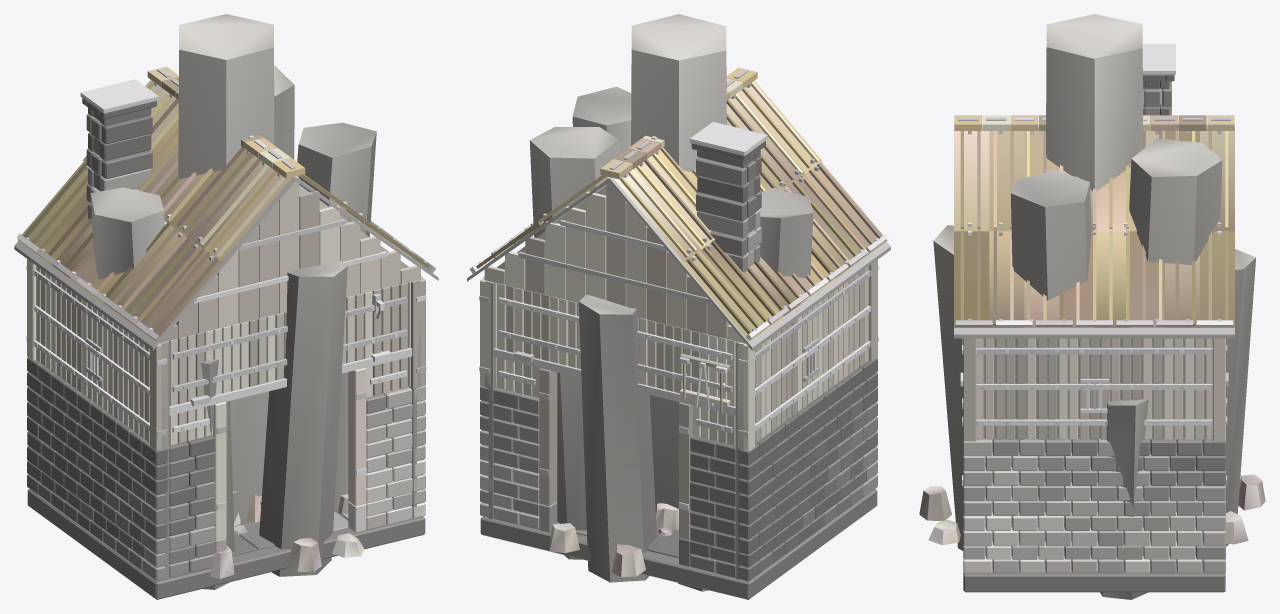
File: kit.glb
3 views of the same model, side by side, from view 1: azimuth 30°, elevation 25°; view 2: azimuth 150°, elevation 25°; view 3: azimuth 270°, elevation 25° (orthographic).
Parts seen in each view (by area): view 1: basalt_outcrop__basalt_block, cinder_forge_roof__rust_sheet, cinder_forge_wall_front__charred_board, cinder_forge_wall_west__basalt_block, cinder_forge_base__basalt_block, cinder_forge_roof__charred_board, cinder_forge_wall_west__charred_board, cinder_forge_wall_front__basalt_block, cinder_forge_roof__soot_stone, cinder_forge_wall_front__forged_iron, cinder_forge_roof__forged_iron, cinder_forge_roof__basalt_block (+7 smaller); view 2: basalt_outcrop__basalt_block, cinder_forge_roof__rust_sheet, cinder_forge_wall_back__charred_board, cinder_forge_roof__charred_board, cinder_forge_wall_west__basalt_block, cinder_forge_base__basalt_block, cinder_forge_wall_west__charred_board, cinder_forge_wall_back__basalt_block, cinder_forge_roof__soot_stone, cinder_forge_roof__forged_iron, cinder_forge_wall_back__forged_iron, cinder_forge_roof__basalt_block (+8 smaller); view 3: basalt_outcrop__basalt_block, cinder_forge_roof__rust_sheet, cinder_forge_wall_east__basalt_block, cinder_forge_wall_east__charred_board, cinder_forge_base__basalt_block, cinder_forge_wall_east__forged_iron, cinder_forge_wall_east__soot_stone, cinder_forge_roof__soot_stone, cinder_forge_roof__forged_iron, basalt_outcrop__scoria.
Part boxes in pixels (x1,y1,x2,y2): basalt_outcrop__basalt_block: (90,14,376,589); cinder_forge_roof__rust_sheet: (17,66,429,340); cinder_forge_wall_front__charred_board: (168,282,410,540); cinder_forge_wall_west__basalt_block: (27,357,168,554); cinder_forge_base__basalt_block: (27,461,425,599); cinder_forge_roof__charred_board: (159,176,421,343); cinder_forge_wall_west__charred_board: (27,259,167,451); cinder_forge_wall_front__basalt_block: (169,387,412,551); cinder_forge_roof__soot_stone: (14,98,438,350); cinder_forge_wall_front__forged_iron: (169,293,412,510); cinder_forge_roof__forged_iron: (17,68,436,340); cinder_forge_roof__basalt_block: (86,132,152,219); basalt_outcrop__basalt_block: (529,14,813,591); cinder_forge_roof__rust_sheet: (476,67,887,341); cinder_forge_wall_back__charred_board: (494,282,735,540); cinder_forge_roof__charred_board: (483,177,745,343); cinder_forge_wall_west__basalt_block: (737,357,877,554); cinder_forge_base__basalt_block: (480,461,877,599); cinder_forge_wall_west__charred_board: (737,260,877,451); cinder_forge_wall_back__basalt_block: (493,387,735,551); cinder_forge_roof__soot_stone: (467,141,890,350); cinder_forge_roof__forged_iron: (469,69,888,340); cinder_forge_wall_back__forged_iron: (493,297,735,510); cinder_forge_roof__basalt_block: (696,175,761,272); basalt_outcrop__basalt_block: (933,14,1255,599); cinder_forge_roof__rust_sheet: (954,115,1234,327); cinder_forge_wall_east__basalt_block: (963,439,1225,546); cinder_forge_wall_east__charred_board: (963,338,1225,441); cinder_forge_base__basalt_block: (963,542,1225,592); cinder_forge_wall_east__forged_iron: (962,345,1227,425); cinder_forge_wall_east__soot_stone: (983,338,1205,541); cinder_forge_roof__soot_stone: (954,75,1234,338); cinder_forge_roof__forged_iron: (955,44,1233,326); basalt_outcrop__scoria: (919,474,1265,571).
Bounding box in the file's own units: 5.12 × 8.72 × 5.29.
